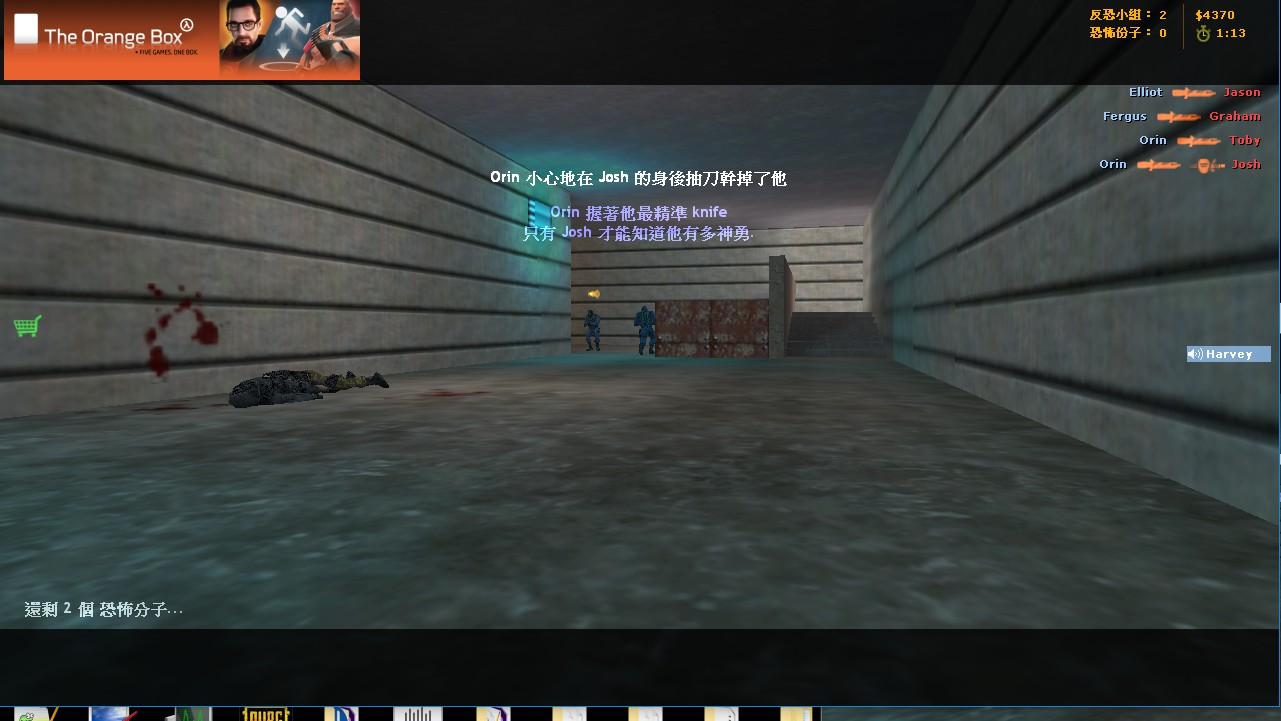person: (634, 305, 656, 357), (582, 309, 602, 352)
